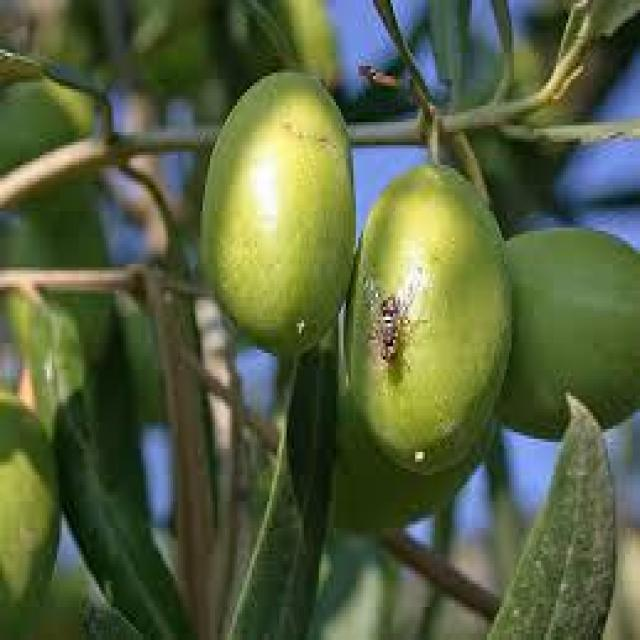Olive Fruit Fly: (347, 165, 509, 472)
